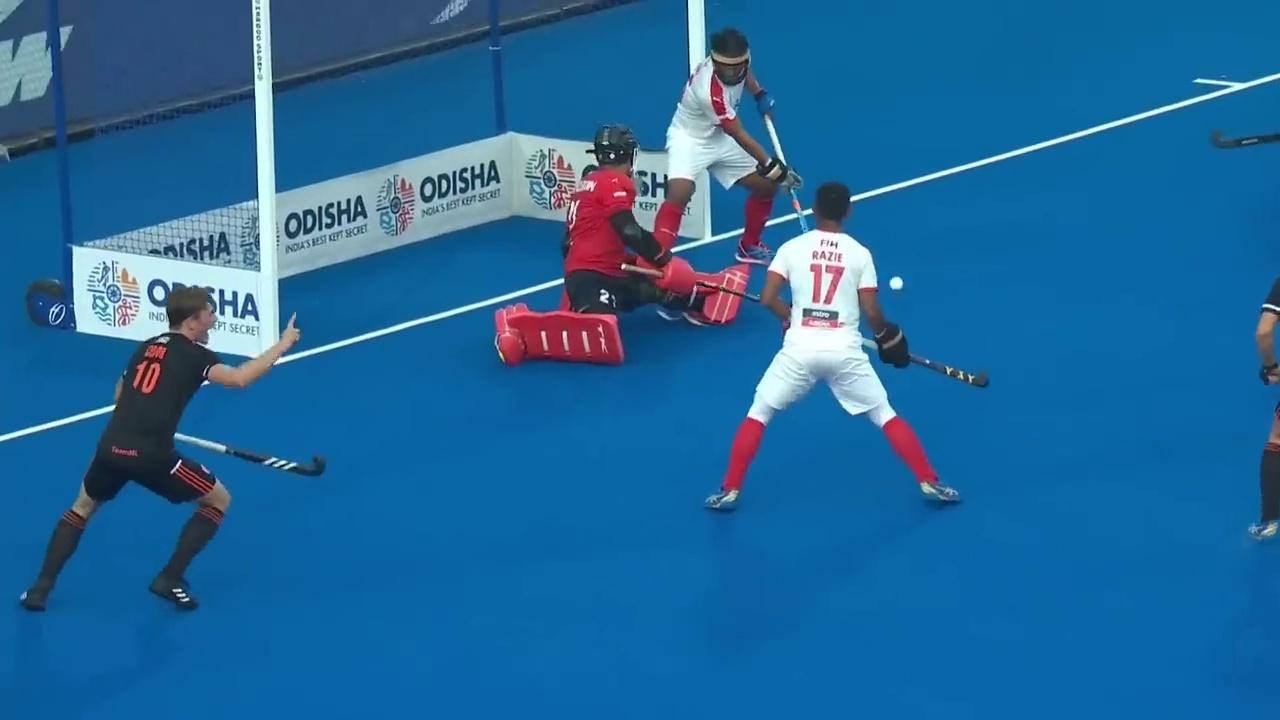ball: (885, 267, 908, 297)
